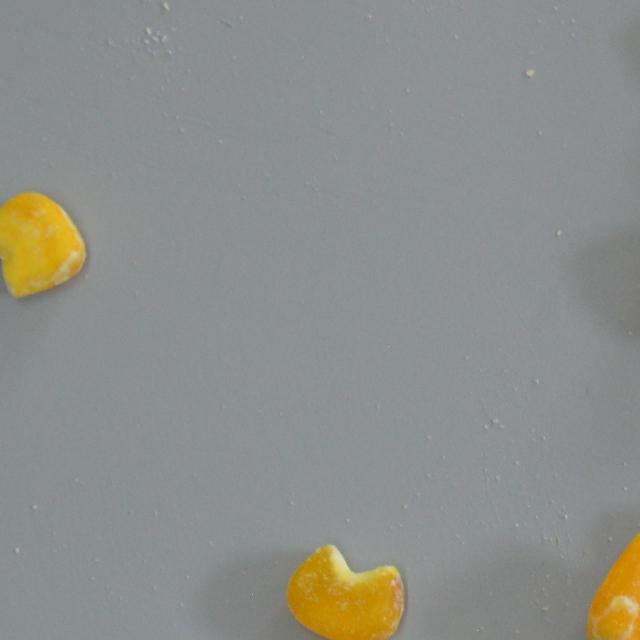pelicula: (284, 542, 404, 640), (0, 188, 87, 302), (587, 528, 640, 640)
